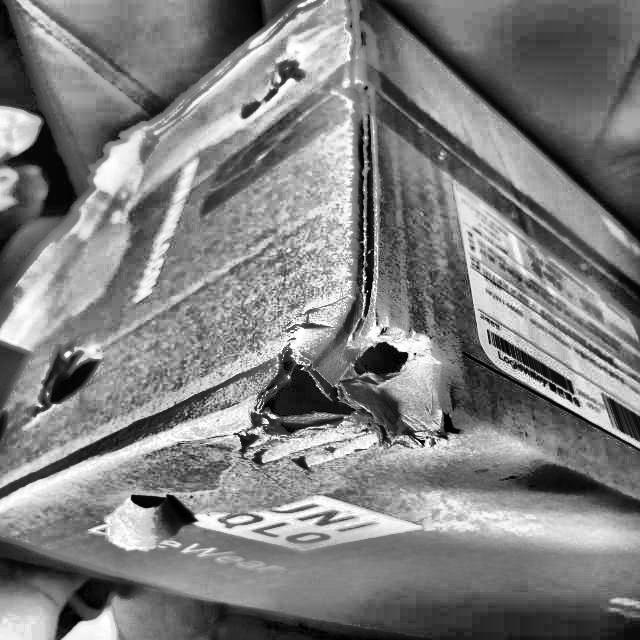box: (0, 0, 639, 639)
hole: (251, 334, 350, 434), (35, 348, 113, 410), (342, 340, 425, 388)
